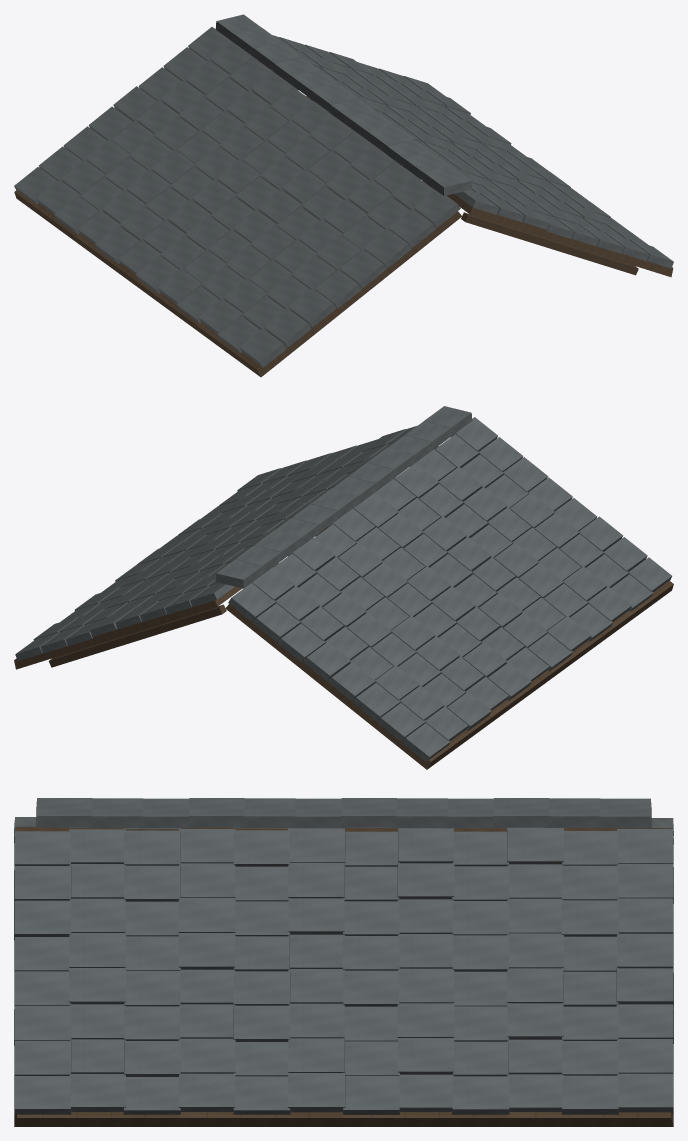
Rendered from part_slate_patch.glb.
3 views of the same model, one above another, from view 1: azimuth 30°, elevation 25°; view 2: azimuth 150°, elevation 25°; view 3: azimuth 270°, elevation 25° (orthographic). The views are drawn at different scales.
Parts seen in each view (by area): view 1: slate_patch; view 2: slate_patch; view 3: slate_patch.
Boxes of the visible parts, bbox=[...] form: slate_patch: bbox=[14, 14, 673, 377]; slate_patch: bbox=[14, 406, 673, 769]; slate_patch: bbox=[14, 798, 673, 1126].
Size of the model in its own units: 4.89 by 1.55 by 4.98.
Materials: 2 (2 with a texture image).
